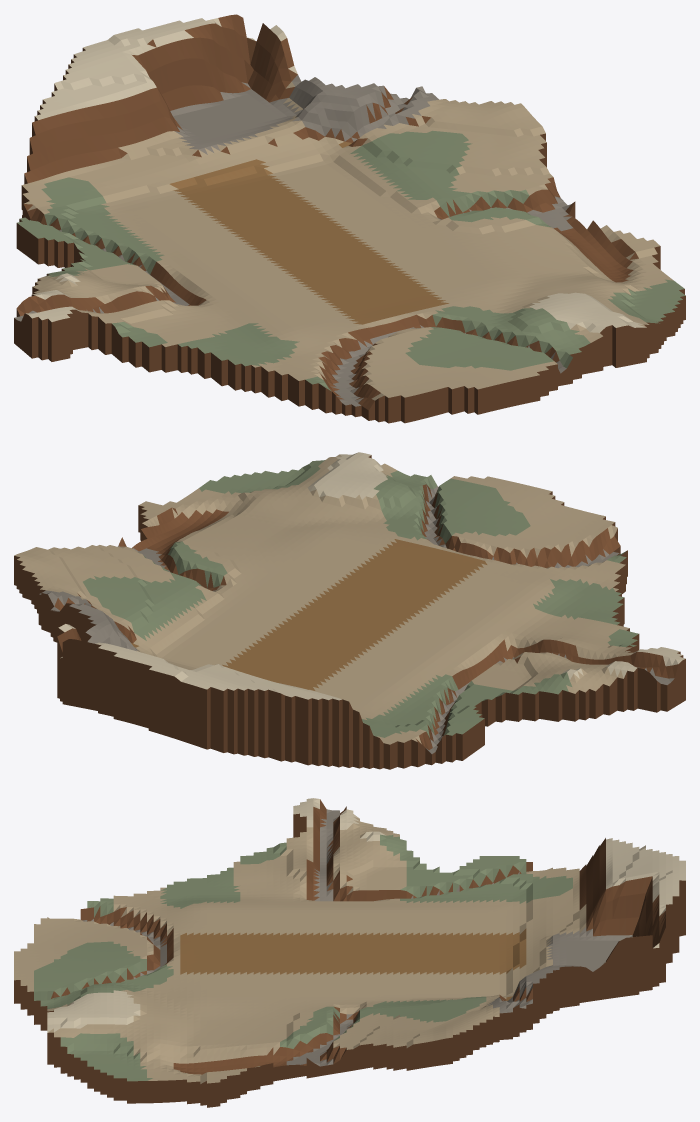
The model's file is frontier-town-terrain-3fdd03.glb.
The picture shows the model from 3 angles, top to bottom: view 1: azimuth 30°, elevation 25°; view 2: azimuth 150°, elevation 25°; view 3: azimuth 270°, elevation 25°; orthographic projection. The views are drawn at different scales.
Parts seen in each view (by area): view 1: scrub-plain; view 2: scrub-plain; view 3: scrub-plain.
Part boxes in pixels (x1,y1,x2,y2): scrub-plain: [14, 14, 685, 423]; scrub-plain: [14, 452, 685, 769]; scrub-plain: [14, 798, 685, 1107].
Bounding box in the file's own units: 92 × 19.04 × 101.
